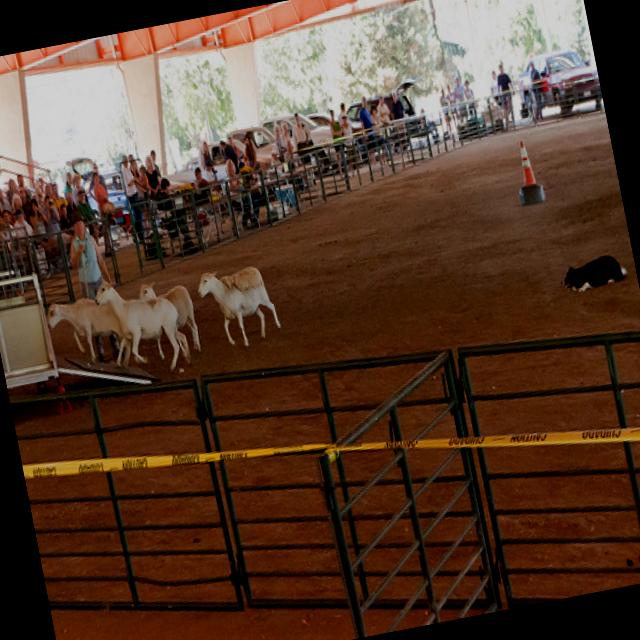Vehicle: (0, 204, 164, 428), (509, 40, 605, 124), (64, 150, 130, 230), (343, 76, 425, 130), (261, 106, 335, 156), (229, 122, 282, 170), (306, 110, 334, 130)
